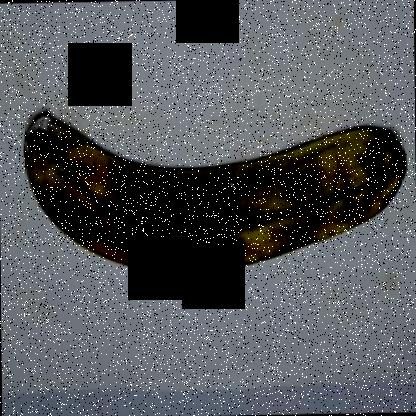overripe: (7, 72, 412, 290)
